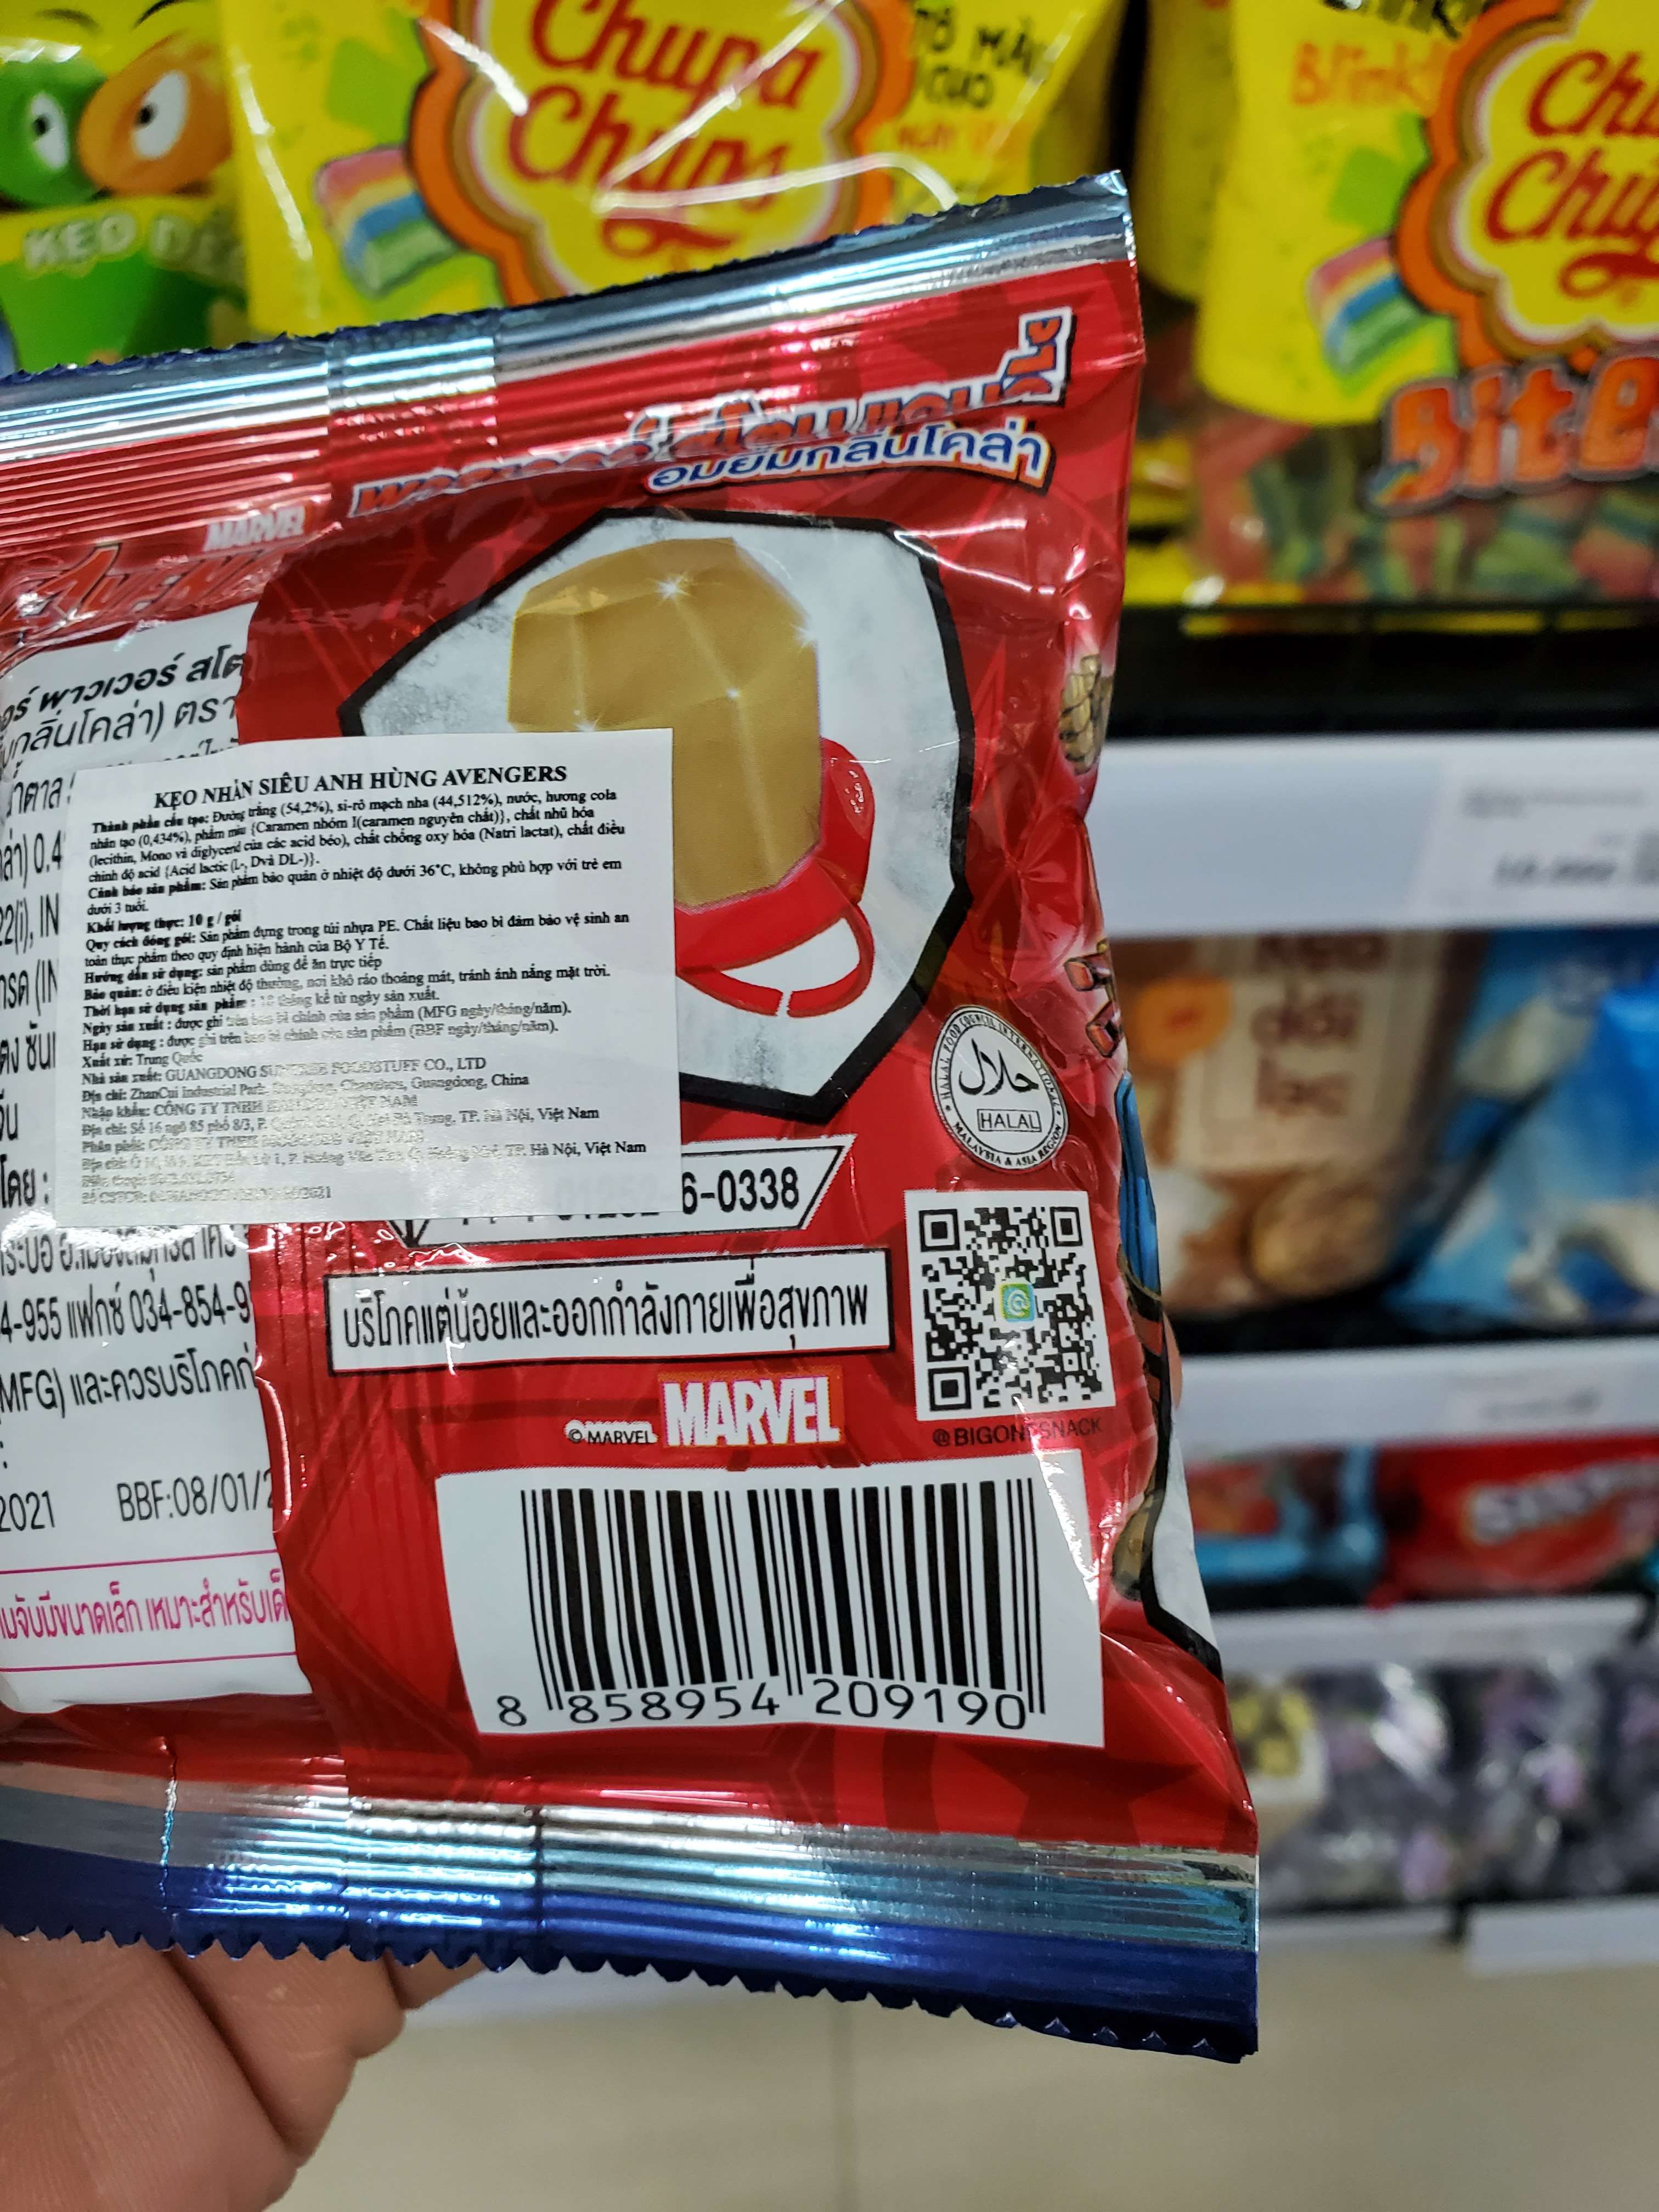barcode: (437, 1451, 1093, 1780)
qr code: (894, 1179, 1131, 1423)
